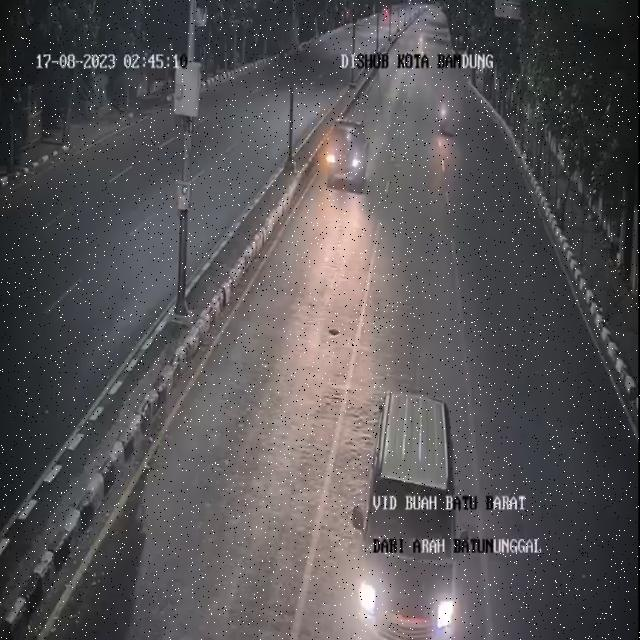cars: (344, 365, 472, 640), (321, 112, 381, 206)
motorcycle: (438, 82, 450, 142)
